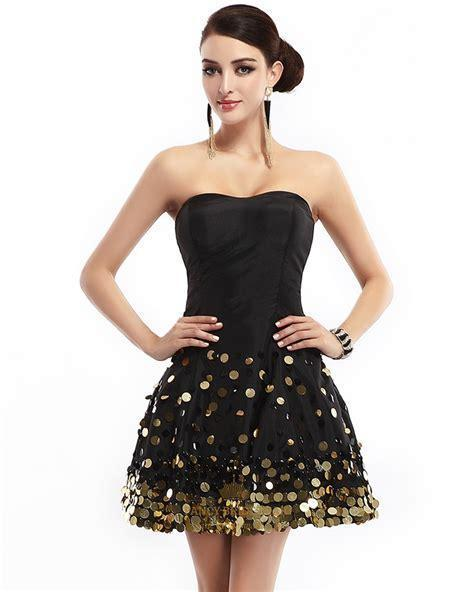dress: (121, 192, 378, 536)
